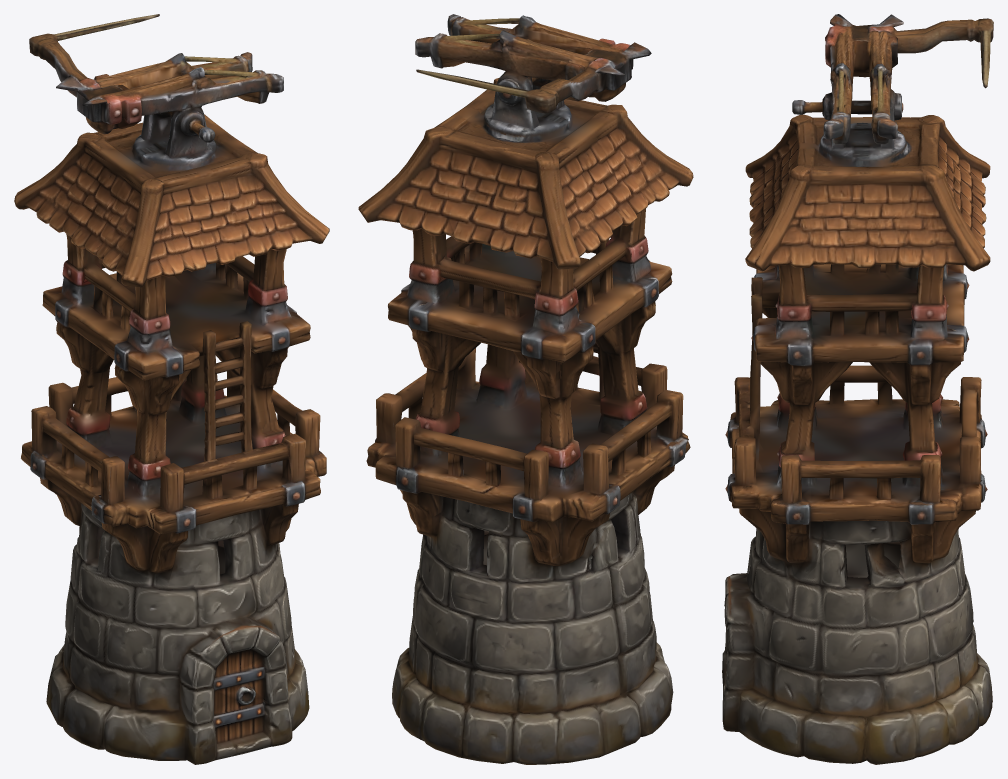
Rendered from SniperTower (2).fbx.
3 views of the same model, side by side, from view 1: azimuth 30°, elevation 25°; view 2: azimuth 150°, elevation 25°; view 3: azimuth 270°, elevation 25° (orthographic). The views are drawn at different scales.
Visible parts, largest first — view 1: mesh_node; view 2: mesh_node; view 3: mesh_node.
Boxes of the visible parts, box(x1,y1,x2,y2) form: mesh_node: box(14, 14, 329, 764); mesh_node: box(358, 14, 693, 764); mesh_node: box(722, 14, 993, 764).
Size of the model in its own units: 0.7268 by 1.98 by 0.7464.
